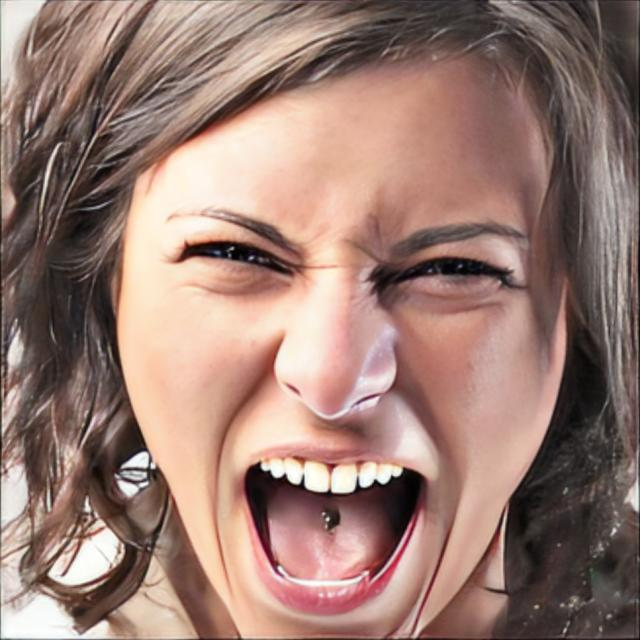anger: (108, 50, 576, 640)
